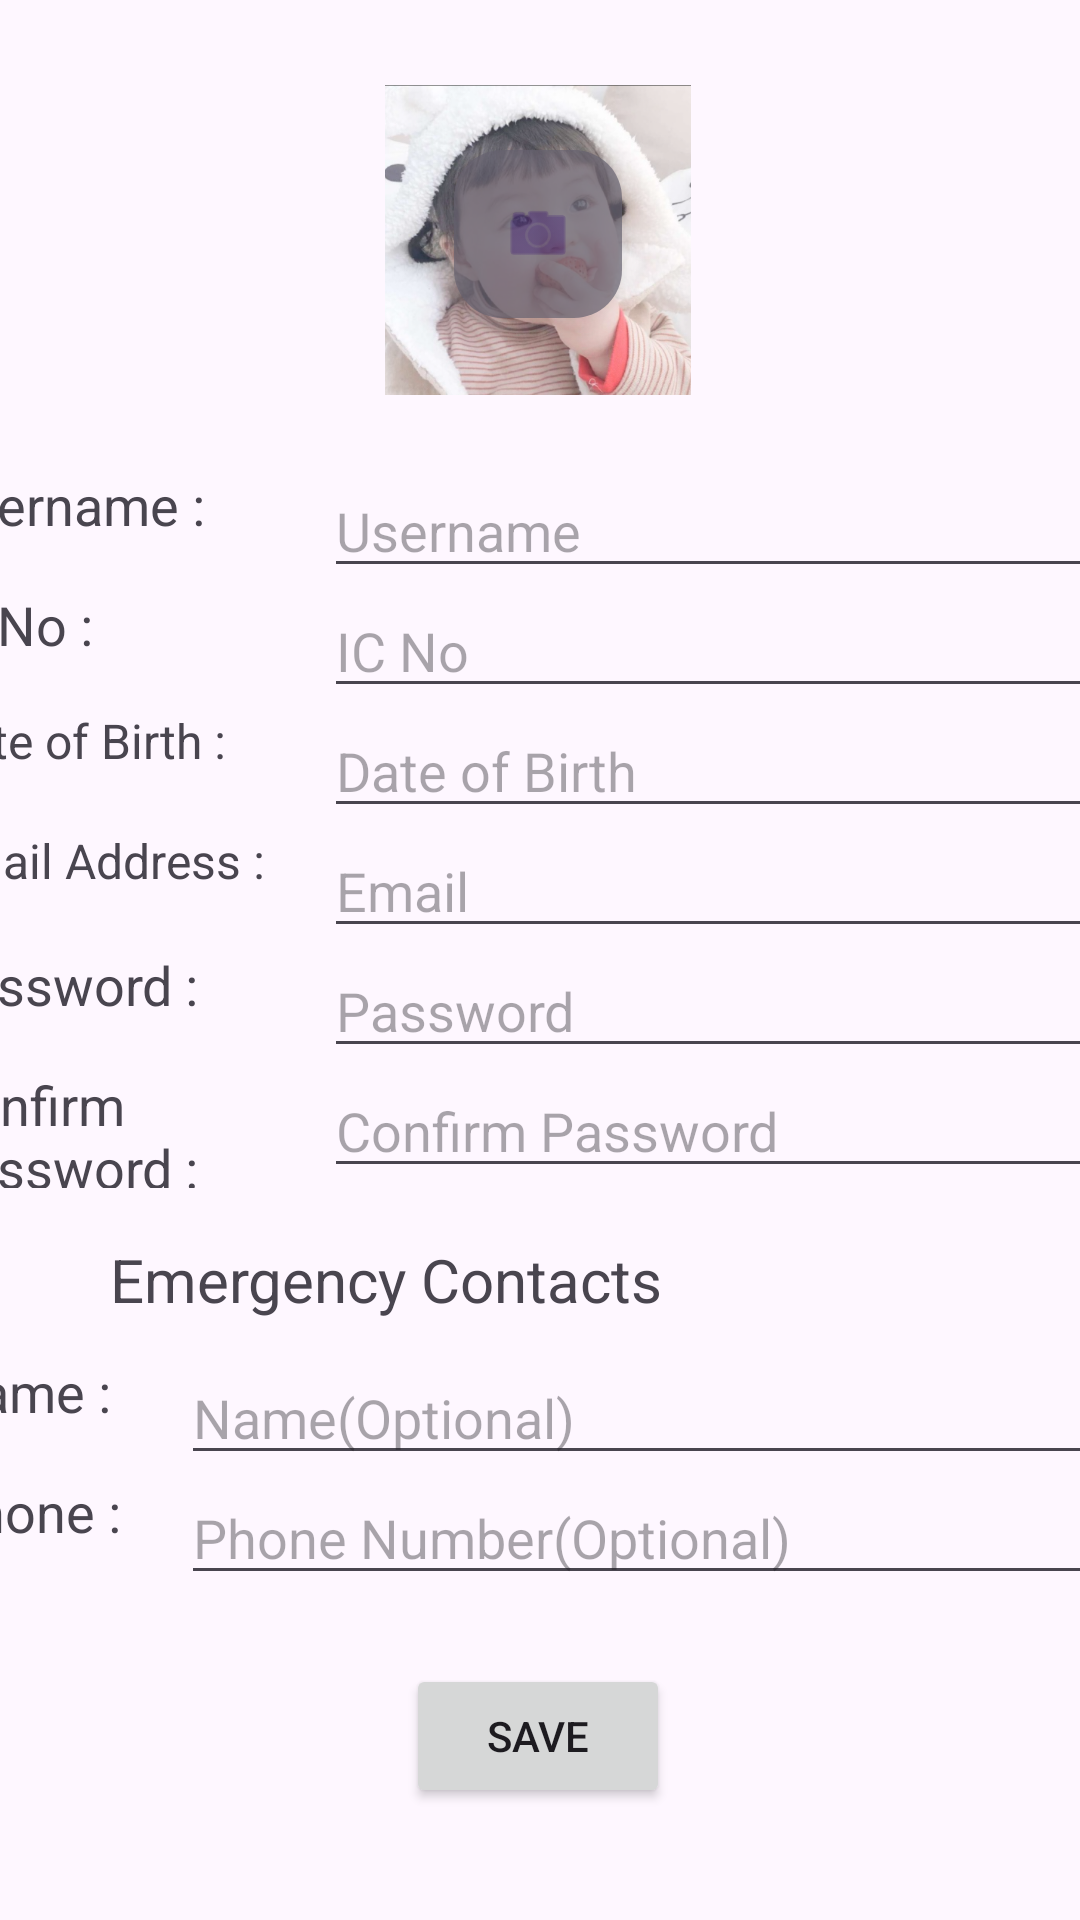

Icon click points for this 1080x1920 phone screenshot, format (x,y):
portrait: (538,234)
